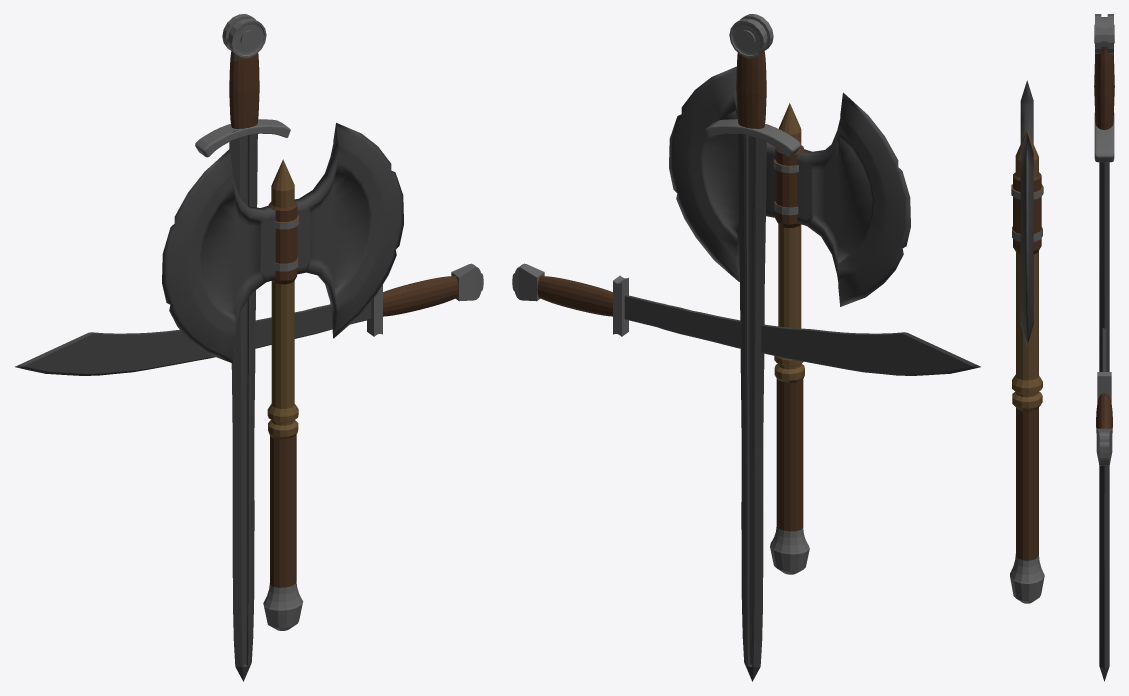
File: bastard.fbx
3 renders of one model, left to right at view 1: azimuth 30°, elevation 25°; view 2: azimuth 150°, elevation 25°; view 3: azimuth 270°, elevation 25°, orthographic.
Parts seen in each view (by area): view 1: axe, sword, dual sword; view 2: axe, sword, dual sword; view 3: axe, sword, dual sword.
Part boxes in pixels (x1,y1,x2,y2): axe: [162, 123, 403, 630]; sword: [195, 14, 290, 681]; dual sword: [15, 263, 483, 375]; axe: [669, 66, 910, 574]; sword: [705, 14, 800, 681]; dual sword: [512, 263, 980, 375]; axe: [1010, 80, 1044, 603]; sword: [1094, 14, 1114, 681]; dual sword: [1096, 328, 1112, 465].
Bounding box in the file's own units: 467 × 635 × 90.48.
